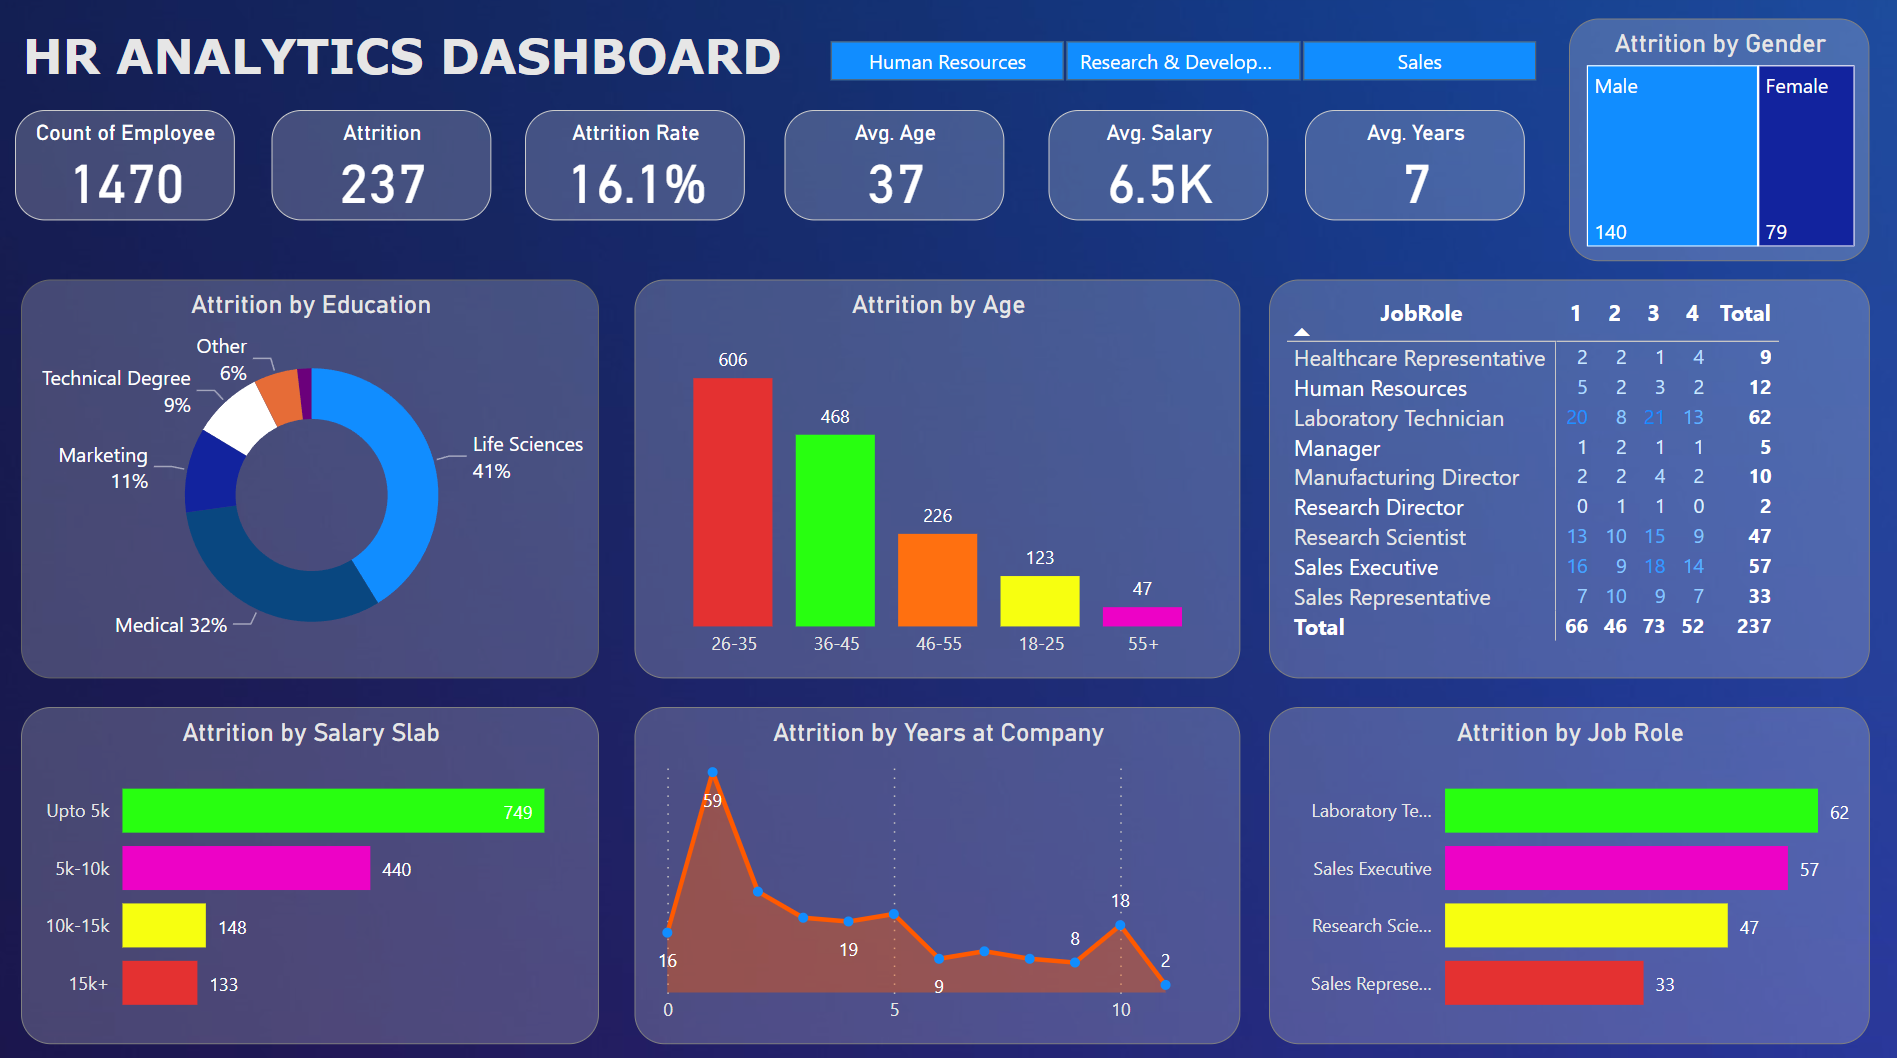

The dashboard page shown, as its layout file describes it:
{"tool":"powerbi","page":{"name":"Page 1","canvas":[1280,720],"ordinal":0},"visuals":[{"type":"card","title":"Count of Employee","fields":{"Values":["CountNonNull(HR_Analytics.EmpID)"]},"box":[16.2,78,147,74],"z":0},{"type":"card","title":"Attrition","fields":{"Values":["Sum(HR_Analytics.AttrtionCount)"]},"box":[187.7,78,147.1,74.3],"z":1000},{"type":"card","title":"Attrition Rate","fields":{"Values":["HR_Analytics.AttritionRate"]},"box":[357.7,78,147.1,74.3],"z":2000},{"type":"card","title":"Avg.  Age","fields":{"Values":["Avg(HR_Analytics.Age)"]},"box":[532,78,147.1,74.3],"z":3000},{"type":"card","title":"Avg.  Salary","fields":{"Values":["Avg(HR_Analytics.MonthlyIncome)"]},"box":[709.1,78,147.1,74.3],"z":4000},{"type":"card","title":"Avg. Years","fields":{"Values":["Avg(HR_Analytics.YearsAtCompany)"]},"box":[880.5,78,147.1,74.3],"z":5000},{"type":"donutChart","title":"Attrition by Education","fields":{"Category":["HR_Analytics.EducationField"],"Y":["CountNonNull(HR_Analytics.Attrition)"]},"box":[20,192.5,387.5,267.5],"z":6000},{"type":"columnChart","title":"Attrition by Age","fields":{"Category":["HR_Analytics.AgeGroup"],"Y":["CountNonNull(HR_Analytics.Attrition)"]},"box":[431.2,192.5,406.2,267.5],"z":7000},{"type":"pivotTable","fields":{"Values":["Sum(HR_Analytics.AttrtionCount)"],"Rows":["HR_Analytics.JobRole"],"Columns":["HR_Analytics.JobSatisfaction"]},"box":[856.2,192.5,402.5,267.5],"z":8000},{"type":"clusteredBarChart","title":"Attrition by Salary Slab","fields":{"Category":["HR_Analytics.SalarySlab"],"Y":["CountNonNull(HR_Analytics.Attrition)"]},"box":[20,478.8,387.5,226.2],"z":9000},{"type":"clusteredBarChart","title":"Attrition by Job Role","fields":{"Category":["HR_Analytics.JobRole"],"Y":["Sum(HR_Analytics.AttrtionCount)"]},"box":[856.2,478.8,402.5,226.2],"z":10000},{"type":"areaChart","title":"Attrition by Years at Company","fields":{"Category":["HR_Analytics.YearsAtCompany"],"Y":["Sum(HR_Analytics.AttrtionCount)"]},"box":[431.2,478.8,406.2,226.2],"z":11000},{"type":"treemap","title":"Attrition by Gender","fields":{"Group":["HR_Analytics.Gender"],"Values":["Sum(HR_Analytics.AttrtionCount)"]},"box":[1057.1,17.1,201.4,162.9],"z":12000},{"type":"slicer","fields":{"Values":["HR_Analytics.Department"]},"box":[536.8,25.1,522.7,35.2],"z":13000},{"type":"textbox","box":[16.1,17.1,531.8,52.3],"z":14000}]}

Visuals, with their boxes in screenshot pixels (x1, y1, x2, y2), scaled from the page's 1280x720 canvas onto the 1897x1058 screenshot:
"Count of Employee" card: <box>24,115,242,223</box>
"Attrition" card: <box>278,115,496,224</box>
"Attrition Rate" card: <box>530,115,748,224</box>
"Avg.  Age" card: <box>788,115,1006,224</box>
"Avg.  Salary" card: <box>1051,115,1269,224</box>
"Avg. Years" card: <box>1305,115,1523,224</box>
"Attrition by Education" donutChart: <box>30,283,604,676</box>
"Attrition by Age" columnChart: <box>639,283,1241,676</box>
pivotTable - Sum(HR_Analytics.AttrtionCount) x HR_Analytics.JobRole: <box>1269,283,1865,676</box>
"Attrition by Salary Slab" clusteredBarChart: <box>30,704,604,1036</box>
"Attrition by Job Role" clusteredBarChart: <box>1269,704,1865,1036</box>
"Attrition by Years at Company" areaChart: <box>639,704,1241,1036</box>
"Attrition by Gender" treemap: <box>1567,25,1865,264</box>
slicer - HR_Analytics.Department: <box>796,37,1570,89</box>
textbox: <box>24,25,812,102</box>
